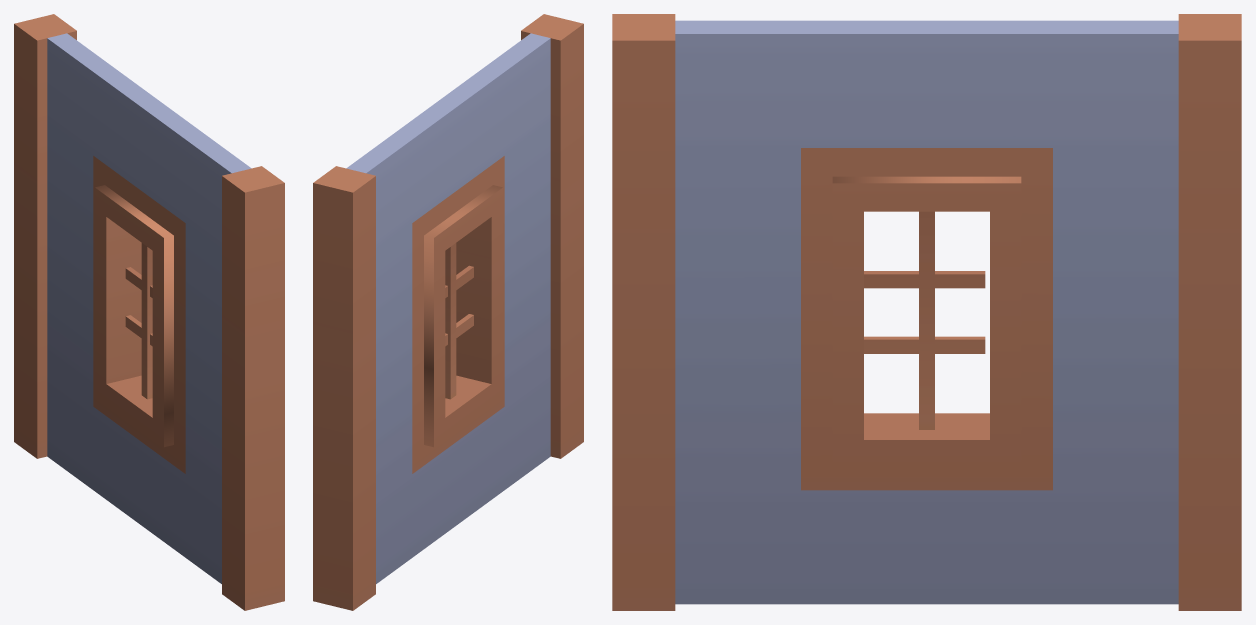
The model's file is wall-window-glass.glb.
The picture shows the model from 3 angles, left to right: view 1: azimuth 30°, elevation 25°; view 2: azimuth 150°, elevation 25°; view 3: azimuth 270°, elevation 25°; orthographic projection. The views are drawn at different scales.
Visible parts, largest first — view 1: wall-window-glass; view 2: wall-window-glass; view 3: wall-window-glass.
Part boxes in pixels (x1,y1,x2,y2): wall-window-glass: [14, 14, 284, 610]; wall-window-glass: [313, 14, 583, 610]; wall-window-glass: [612, 14, 1241, 610].
Size of the model in its own units: 0.1 by 1 by 1.
Materials: 1 (1 with a texture image).
